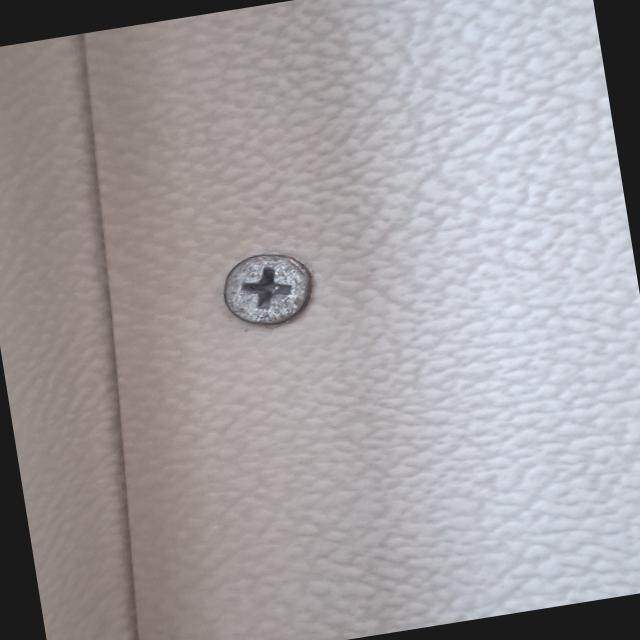Phillips: (201, 252, 325, 336)
